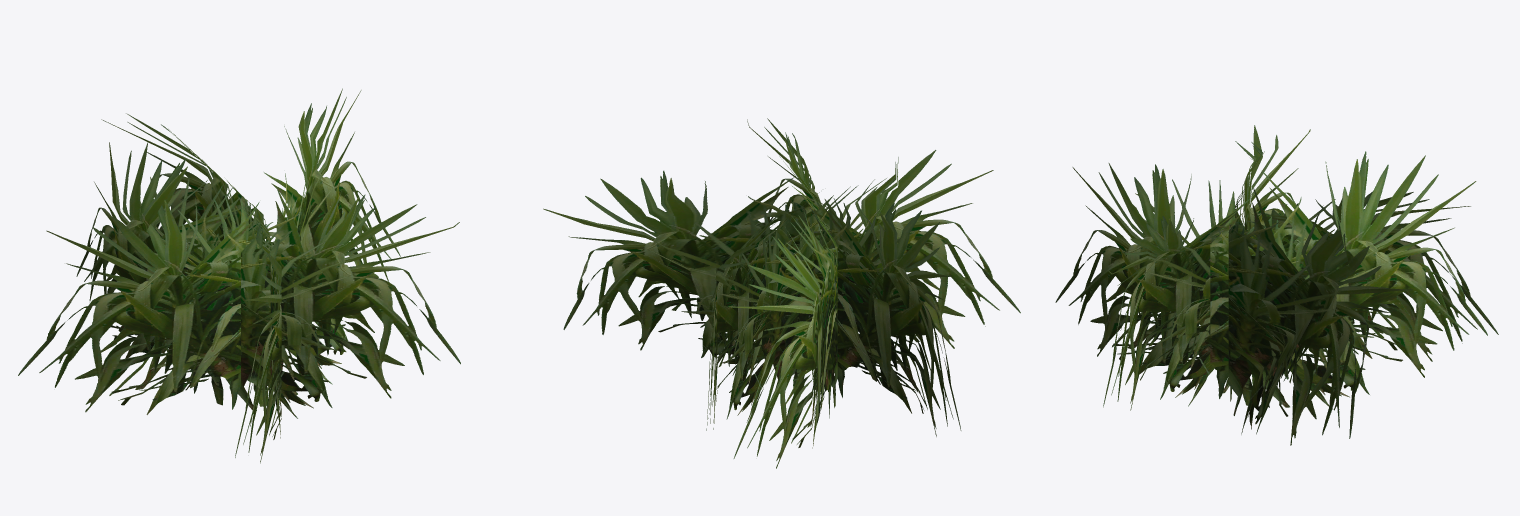
Rendered from trop_grass.dae.
3 views of the same model, side by side, from view 1: azimuth 30°, elevation 25°; view 2: azimuth 150°, elevation 25°; view 3: azimuth 270°, elevation 25° (orthographic).
Visible parts, largest first — view 1: trop_grass; view 2: trop_grass; view 3: trop_grass.
Boxes of the visible parts, x1,y1,x2,y2 form: trop_grass: [18, 88, 460, 463]; trop_grass: [543, 118, 1020, 468]; trop_grass: [1055, 125, 1498, 445].
Bounding box in the file's own units: 47.81 × 33.04 × 46.5.
Materials: 1 (1 with a texture image).
